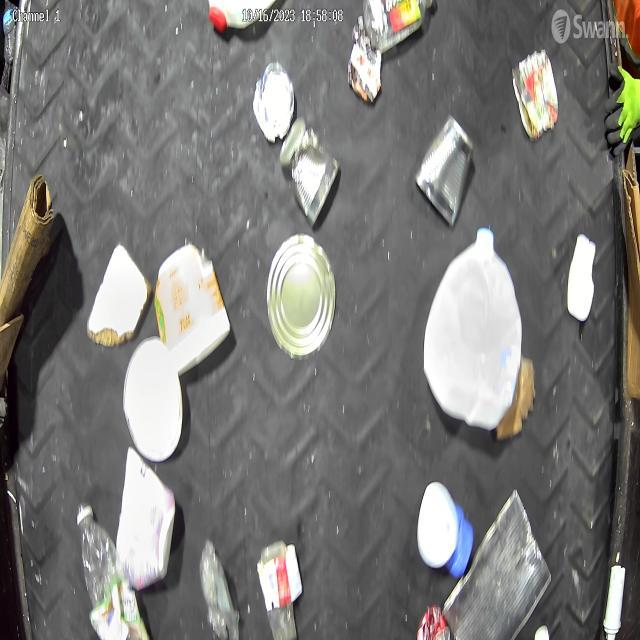can: (266, 234, 336, 358), (278, 116, 342, 228), (414, 112, 475, 228), (512, 49, 558, 140), (252, 61, 296, 142), (416, 602, 449, 640)
milk_jug: (423, 226, 522, 430), (208, 0, 278, 31)
plastic_bottle: (76, 501, 150, 640), (362, 0, 432, 54), (262, 540, 298, 640), (3, 0, 16, 64)
